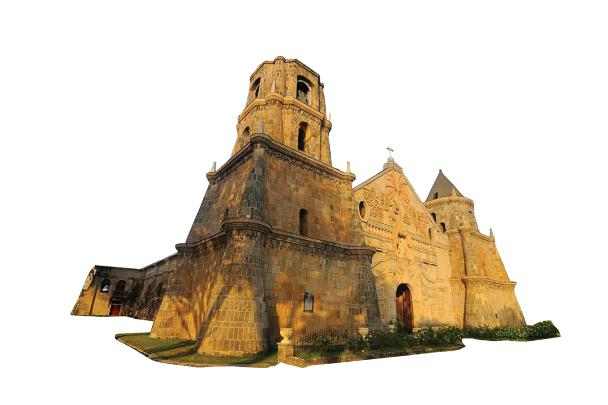Miagao Church: (176, 57, 528, 333)
